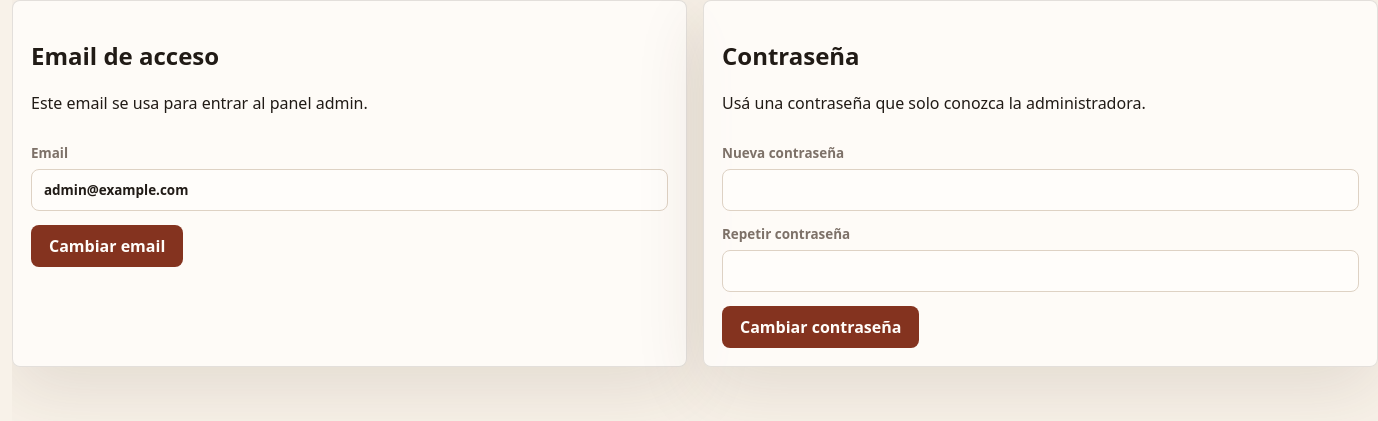
Scenario: AdminAccountForm › updates the password only when both values match
Type "ClaveNueva123" into the password field labelled "Nueva contraseña" at [1040, 190], box [722, 169, 1359, 211]
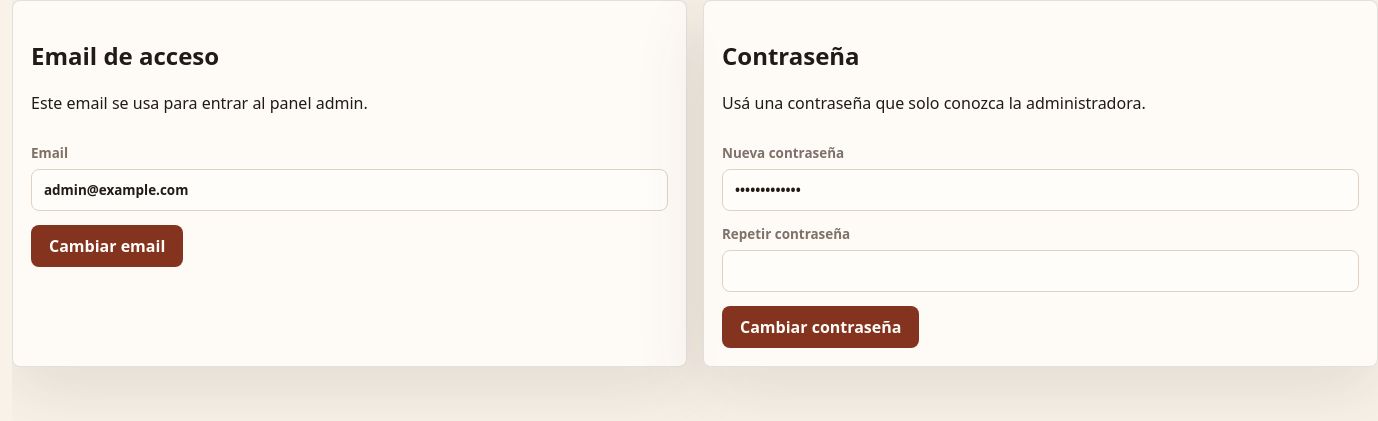
Type "ClaveNueva123" into the password field labelled "Repetir contraseña" at [1040, 271], box [722, 250, 1359, 292]
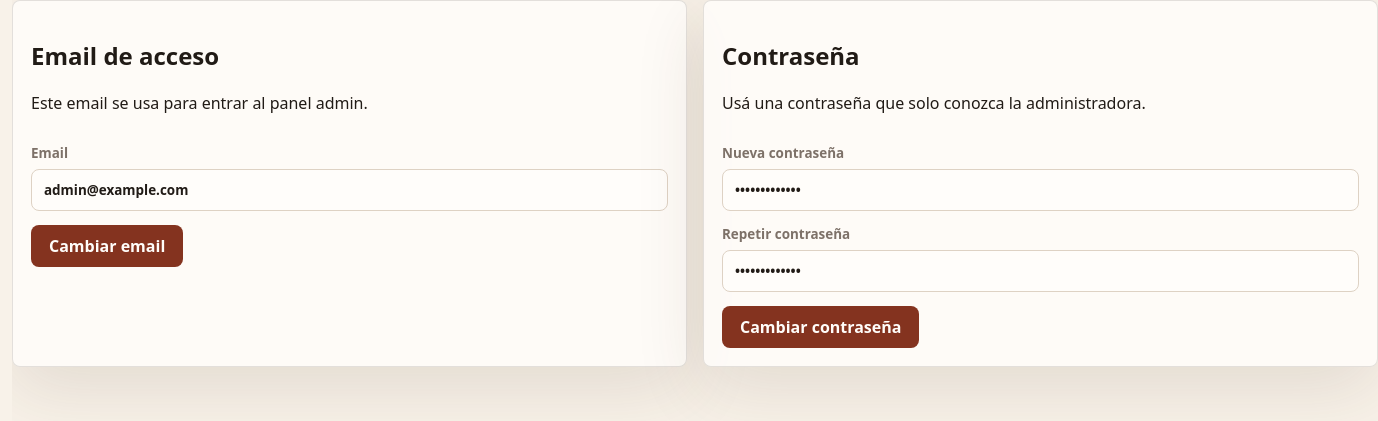
Click the button "Cambiar contraseña" at [821, 327], box [722, 306, 920, 348]
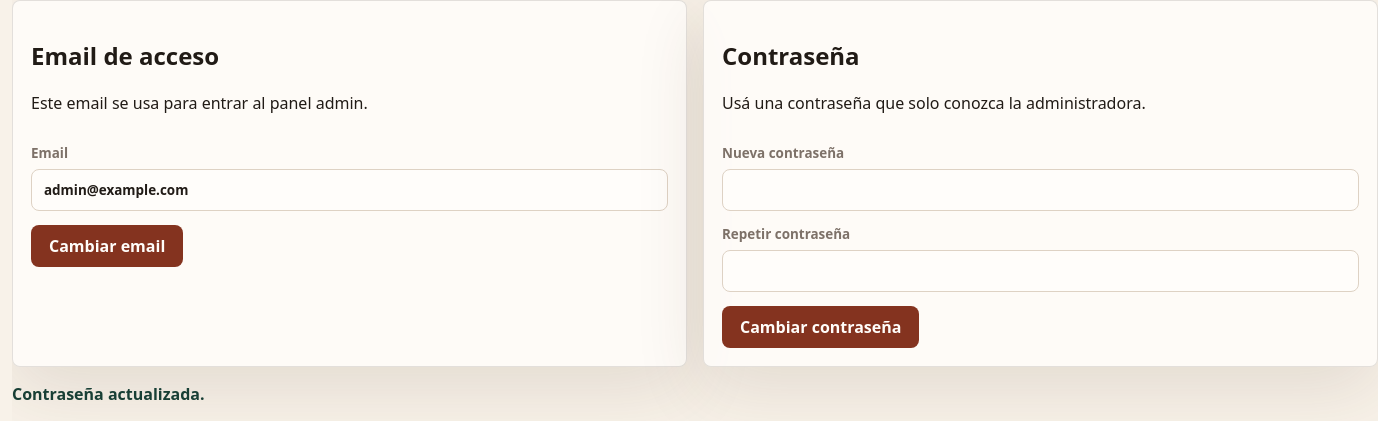
Expected: the text "Contraseña actualizada." is shown, [12, 383, 204, 405]
